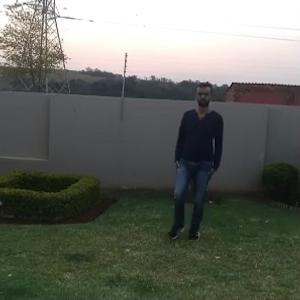follow: (171, 80, 224, 244)
